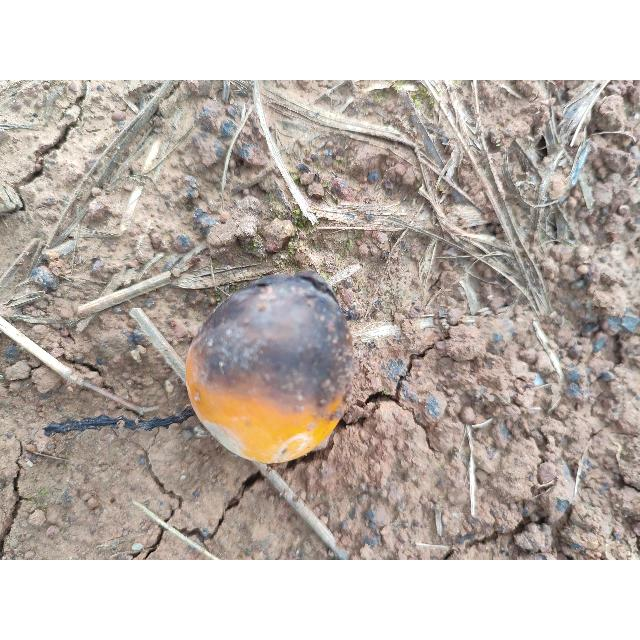damaged: (182, 274, 356, 467)
